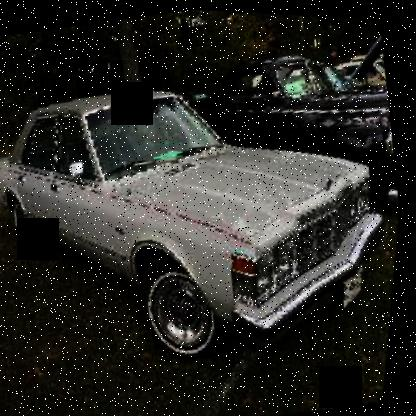not_emergency: (0, 18, 410, 402)
